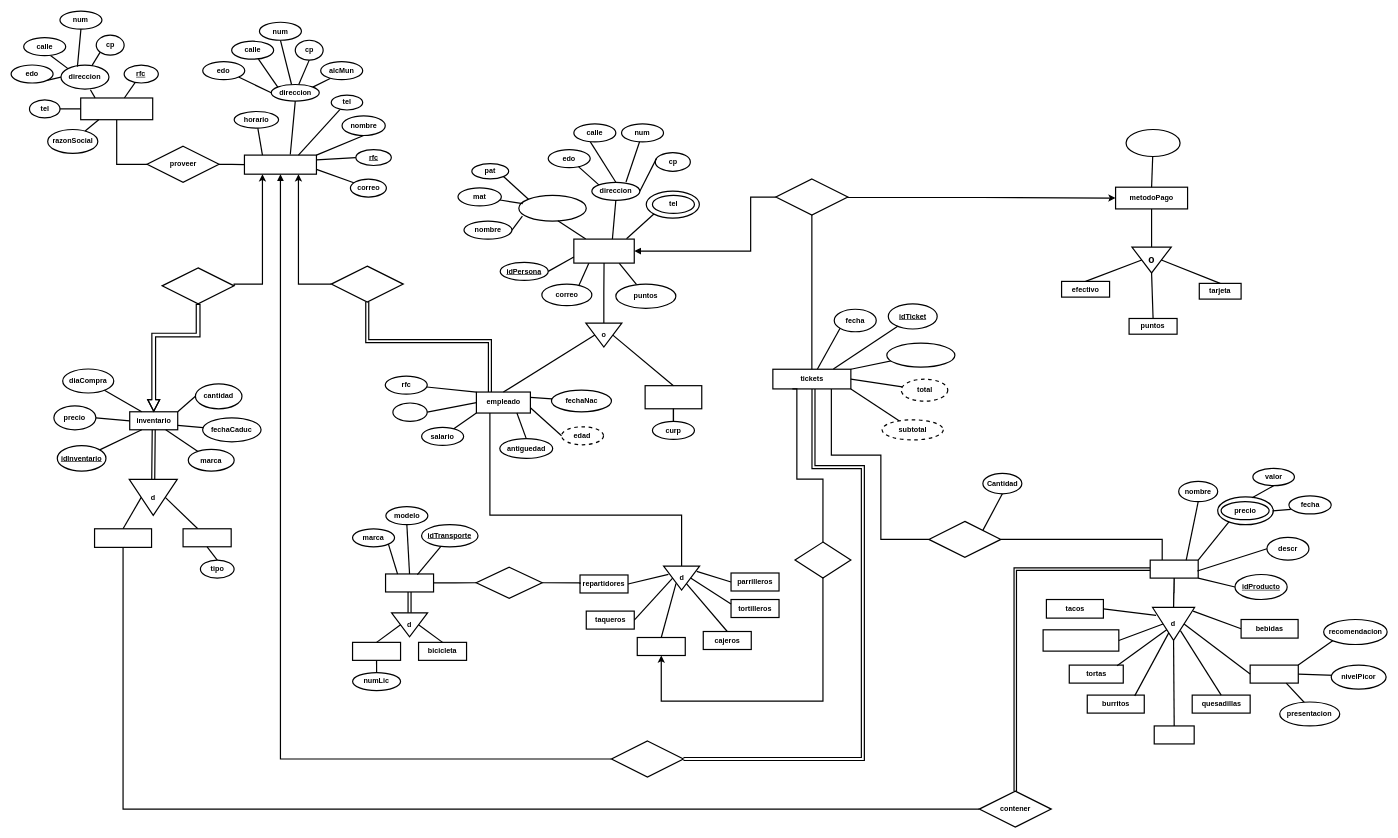
Some shapes in this 1398 by 838 pixel diagram are drawn without their labels. Each missing label, with the centre of its shape:
administrar: point 197,285
atender: point 647,758
cliente: point 673,397
detalleProductos: point 920,355
generar: point 822,559
gringas: point 1173,734
idPago: point 1152,143
ingrediente: point 123,538
meseros: point 661,646
mobiliario: point 206,537
motocicleta: point 376,651
nombreCompleto: point 552,207
nss: point 410,412
pagar: point 811,196
persona: point 604,250
platillosMexicanos: point 1080,640
producto: point 1173,568
proveedores: point 116,108
registrar: point 964,539
salsas: point 1274,673
sucursal: point 280,164
tener: point 509,582
trabajar: point 367,283
transporte: point 409,582
